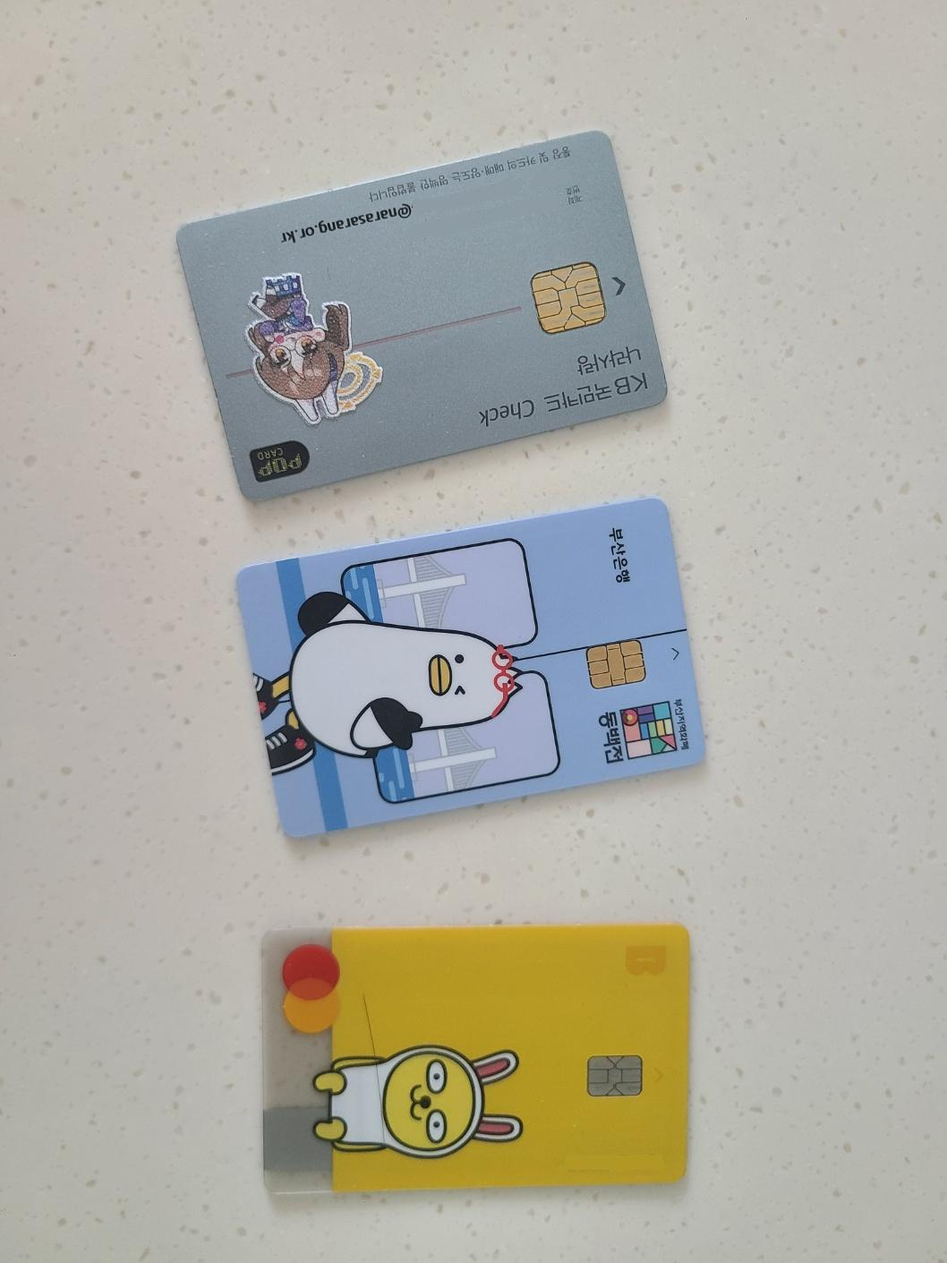Credit_card: (178, 132, 666, 499), (238, 499, 703, 836), (264, 924, 689, 1191)
